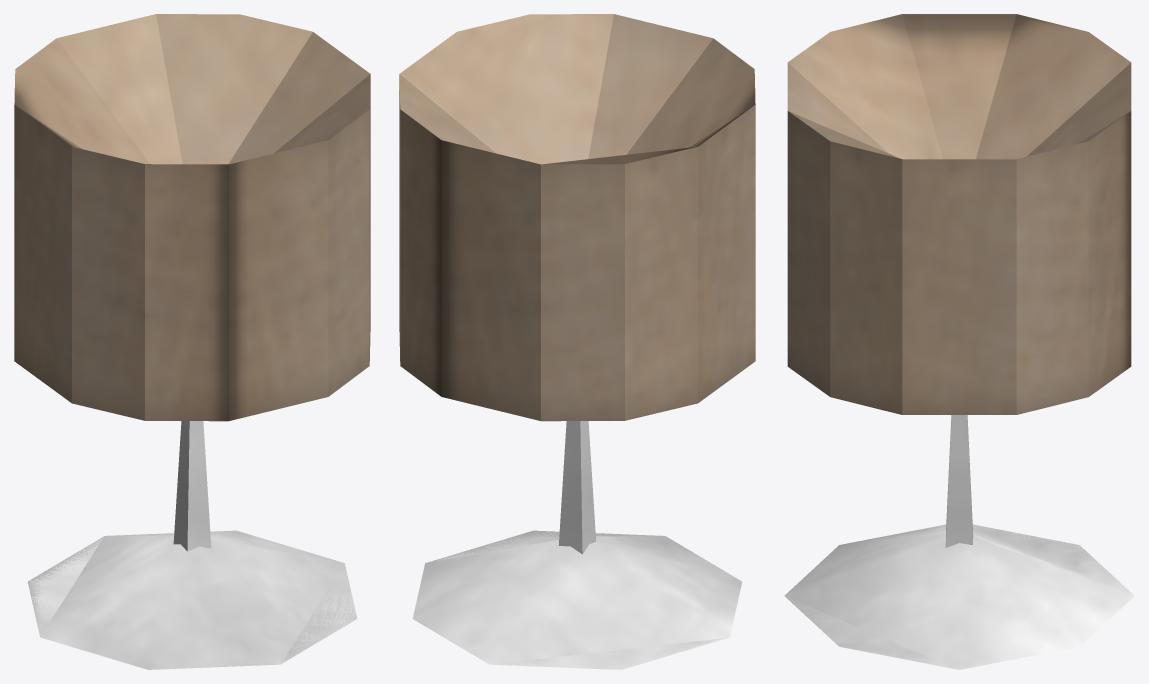
File: ShortLamp.fbx
3 renders of one model, left to right at view 1: azimuth 30°, elevation 25°; view 2: azimuth 150°, elevation 25°; view 3: azimuth 270°, elevation 25°, orthographic.
Visible parts, largest first — view 1: Maya_File_Assets:TexturedAssetsCurrent:DeskLamp; view 2: Maya_File_Assets:TexturedAssetsCurrent:DeskLamp; view 3: Maya_File_Assets:TexturedAssetsCurrent:DeskLamp.
Part boxes in pixels (x1=…): Maya_File_Assets:TexturedAssetsCurrent:DeskLamp: x1=14, y1=14, x2=370, y2=669; Maya_File_Assets:TexturedAssetsCurrent:DeskLamp: x1=399, y1=14, x2=755, y2=669; Maya_File_Assets:TexturedAssetsCurrent:DeskLamp: x1=784, y1=14, x2=1134, y2=669.
Size of the model in its own units: 0.3542 by 0.5677 by 0.3542.
